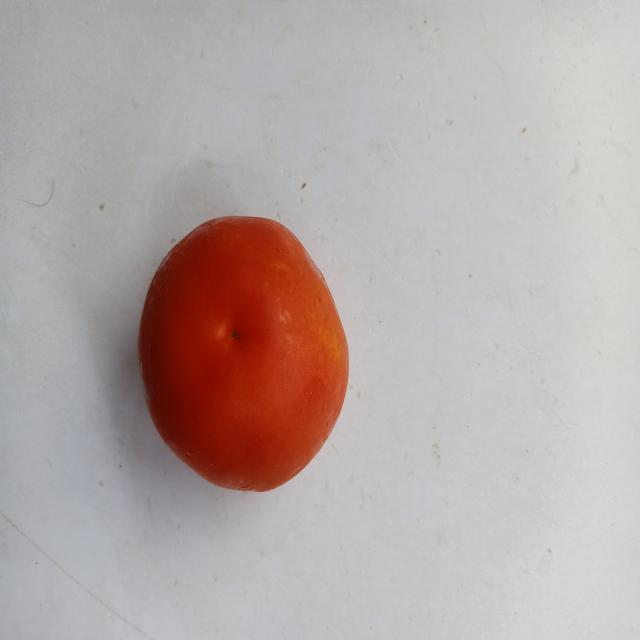Tomato: (101, 174, 388, 574)
